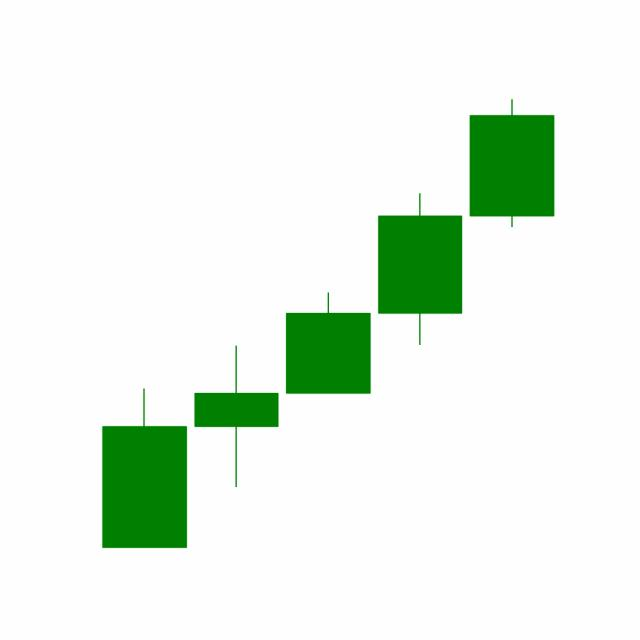Marubozu: (464, 97, 558, 229)
